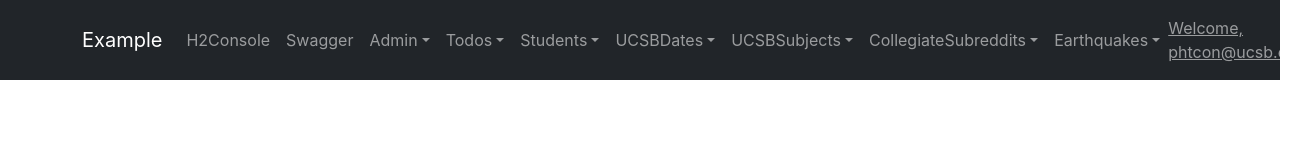
Test: AppNavbar tests › renders the ucsbdates menu correctly for an admin
The width and height of the screenshot is (1292, 161).
Check: the element with test id "appnavbar-ucsbdates-dropdown" is shown, box x1=615 y1=30 x2=703 y2=50
Click the button "UCSBDates" at (665, 40), box x1=607 y1=20 x2=723 y2=60
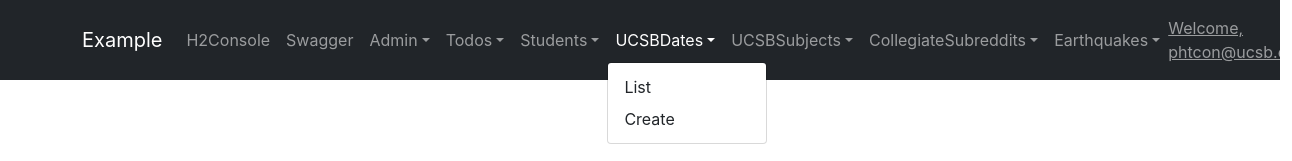
Check: the link with test id "appnavbar-ucsbdates-create" is shown, box x1=624 y1=109 x2=675 y2=129
